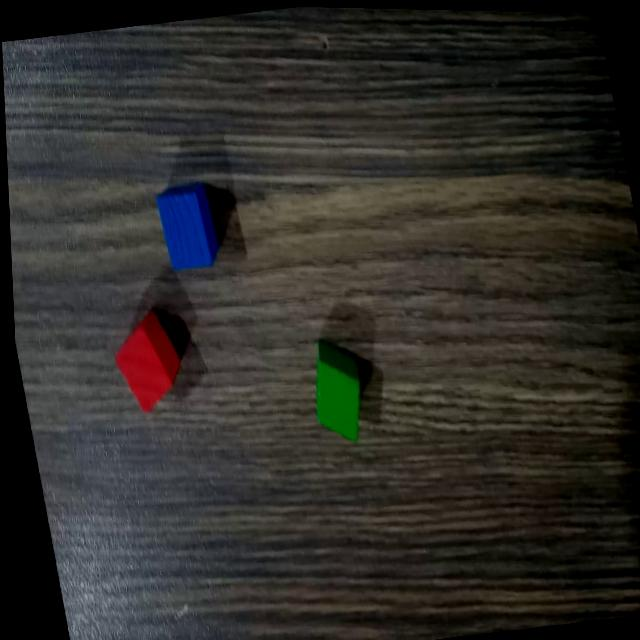cube: (102, 303, 189, 420), (295, 330, 370, 449), (149, 177, 224, 278)
